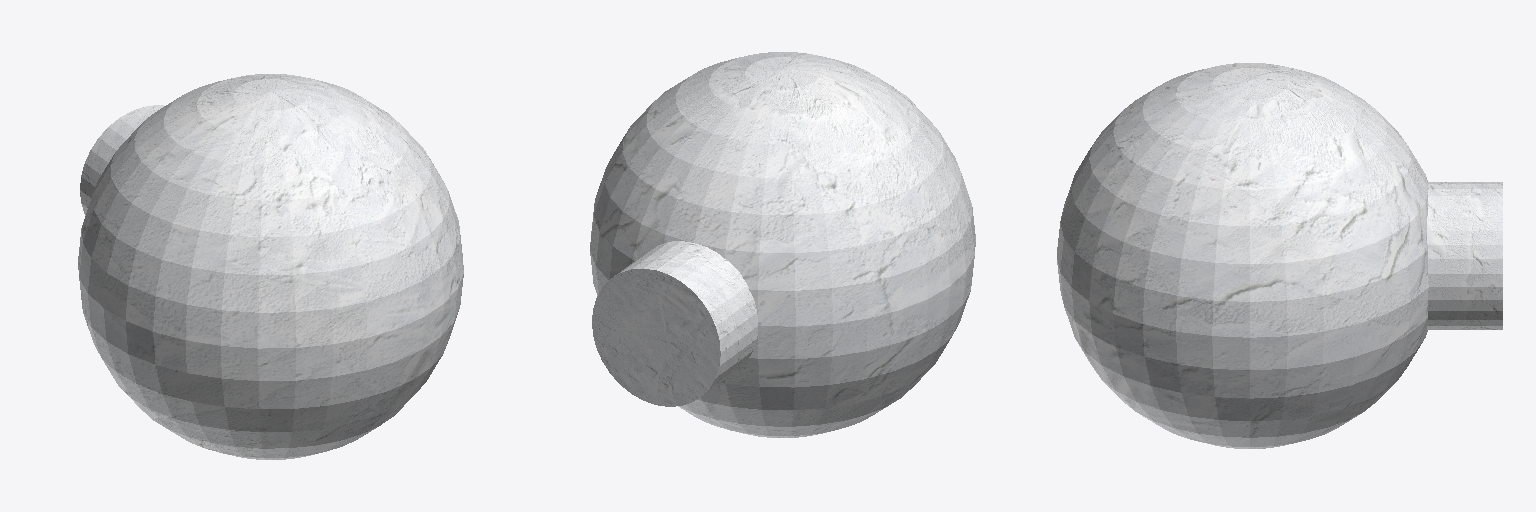
The picture shows the model from 3 angles: view 1: azimuth 30°, elevation 25°; view 2: azimuth 150°, elevation 25°; view 3: azimuth 270°, elevation 25°; orthographic projection.
Visible parts, largest first — view 1: 円柱; view 2: 円柱; view 3: 円柱.
Boxes of the visible parts, x1=… form: 円柱: x1=78, y1=74, x2=463, y2=459; 円柱: x1=590, y1=52, x2=975, y2=437; 円柱: x1=1057, y1=63, x2=1502, y2=448.
Size of the model in its own units: 2 by 2 by 2.31.
Materials: 2 (1 with a texture image).